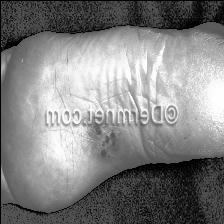Toxin: (80, 131, 120, 164)
